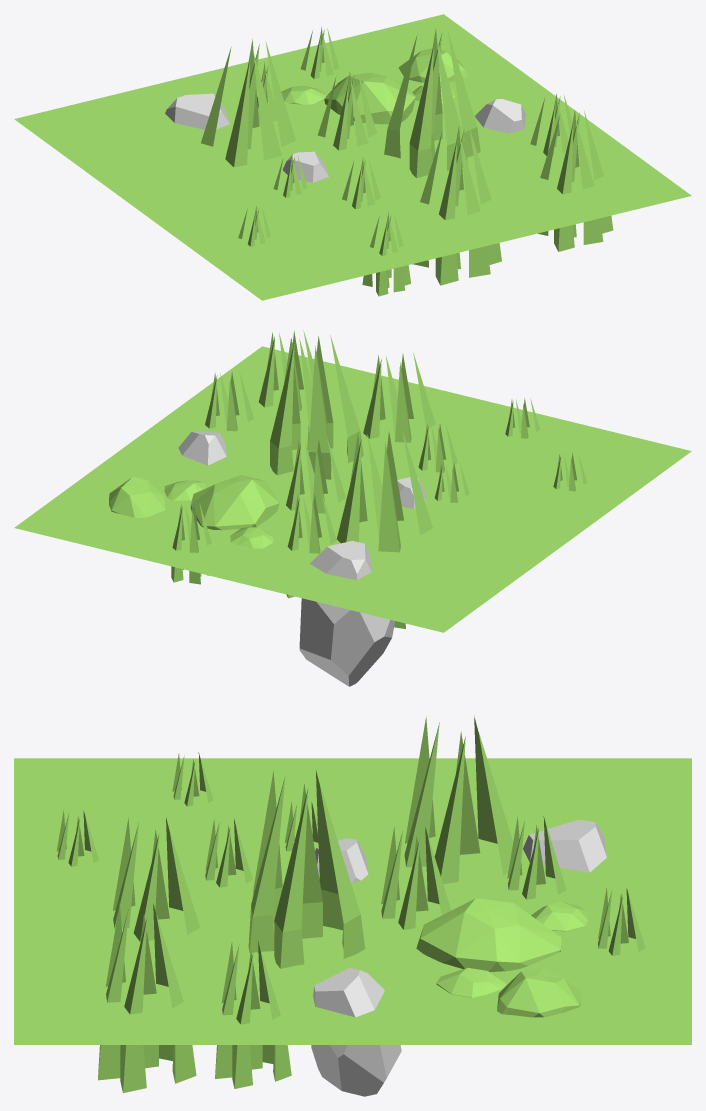
File: grass-composition-big-1-4.fbx
3 views of the same model, one above another, from view 1: azimuth 30°, elevation 25°; view 2: azimuth 150°, elevation 25°; view 3: azimuth 270°, elevation 25° (orthographic). The views are drawn at different scales.
Parts seen in each view (by area): view 1: Plane, Grass, Grass.007, Grass.012, Bush1.2, Grass.001, Grass.006, Stone1.002, Grass.013, Stone1.003, Bush1.1, Grass.008 (+5 smaller); view 2: Plane, Stone1.002, Grass, Bush1.2, Grass.007, Grass.012, Grass.006, Bush1.1, Grass.001, Grass.005, Grass.008, Stone1.003 (+5 smaller); view 3: Plane, Grass, Bush1.2, Grass.007, Grass.001, Stone1.003, Grass.012, Grass.008, Grass.006, Bush1.1, Stone1.002, Grass.005 (+5 smaller).
Boxes of the visible parts, x1=… form: Plane: x1=14, y1=14, x2=691, y2=300; Grass: x1=384, y1=28, x2=480, y2=177; Grass.007: x1=201, y1=39, x2=295, y2=167; Grass.012: x1=412, y1=126, x2=501, y2=285; Bush1.2: x1=281, y1=72, x2=455, y2=124; Grass.001: x1=538, y1=110, x2=613, y2=251; Grass.006: x1=318, y1=72, x2=376, y2=150; Stone1.002: x1=165, y1=93, x2=229, y2=129; Grass.013: x1=362, y1=212, x2=410, y2=296; Stone1.003: x1=475, y1=99, x2=525, y2=133; Bush1.1: x1=398, y1=48, x2=467, y2=83; Grass.008: x1=530, y1=93, x2=577, y2=155; Plane: x1=14, y1=346, x2=691, y2=632; Stone1.002: x1=299, y1=540, x2=395, y2=686; Grass: x1=270, y1=335, x2=363, y2=479; Bush1.2: x1=164, y1=475, x2=279, y2=548; Grass.007: x1=337, y1=430, x2=432, y2=628; Grass.012: x1=363, y1=353, x2=435, y2=442; Grass.006: x1=286, y1=438, x2=345, y2=513; Bush1.1: x1=109, y1=477, x2=165, y2=517; Grass.001: x1=258, y1=330, x2=314, y2=410; Grass.005: x1=286, y1=494, x2=336, y2=598; Grass.008: x1=205, y1=371, x2=254, y2=431; Stone1.003: x1=178, y1=431, x2=226, y2=465; Plane: x1=14, y1=758, x2=691, y2=1044; Grass: x1=248, y1=770, x2=365, y2=968; Bush1.2: x1=416, y1=898, x2=587, y2=997; Grass.007: x1=404, y1=715, x2=513, y2=883; Grass.001: x1=98, y1=903, x2=196, y2=1092; Stone1.003: x1=311, y1=967, x2=401, y2=1096; Grass.012: x1=113, y1=817, x2=199, y2=941; Grass.008: x1=215, y1=941, x2=291, y2=1088; Grass.006: x1=381, y1=827, x2=451, y2=929; Bush1.1: x1=497, y1=967, x2=581, y2=1017; Stone1.002: x1=523, y1=819, x2=606, y2=872; Grass.005: x1=507, y1=816, x2=566, y2=899.
Size of the model in its own units: 200 by 107 by 200.
